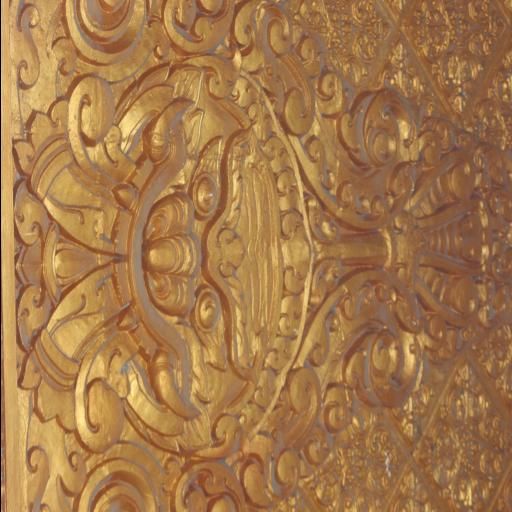hoa: (417, 363, 512, 512), (400, 0, 507, 126)
la: (240, 283, 418, 512), (256, 0, 417, 226)
